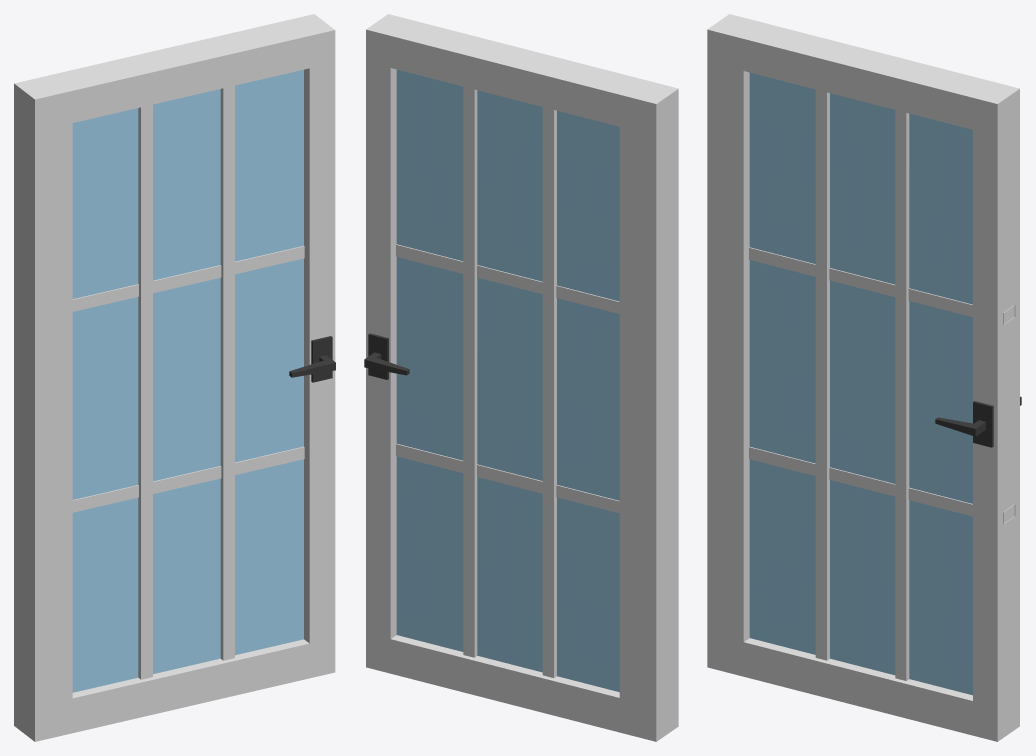
File: door_001.glb
3 views of the same model, side by side, from view 1: azimuth 30°, elevation 25°; view 2: azimuth 150°, elevation 25°; view 3: azimuth 330°, elevation 25° (orthographic).
Visible parts, largest first — view 1: door_001; view 2: door_001; view 3: door_001.
Part boxes in pixels (<box>): door_001: <box>14,14,335,741</box>; door_001: <box>364,14,678,741</box>; door_001: <box>707,14,1021,741</box>.
Size of the model in its own units: 1.1 by 2.27 by 0.2858.
Materials: 1 (1 with a texture image).
